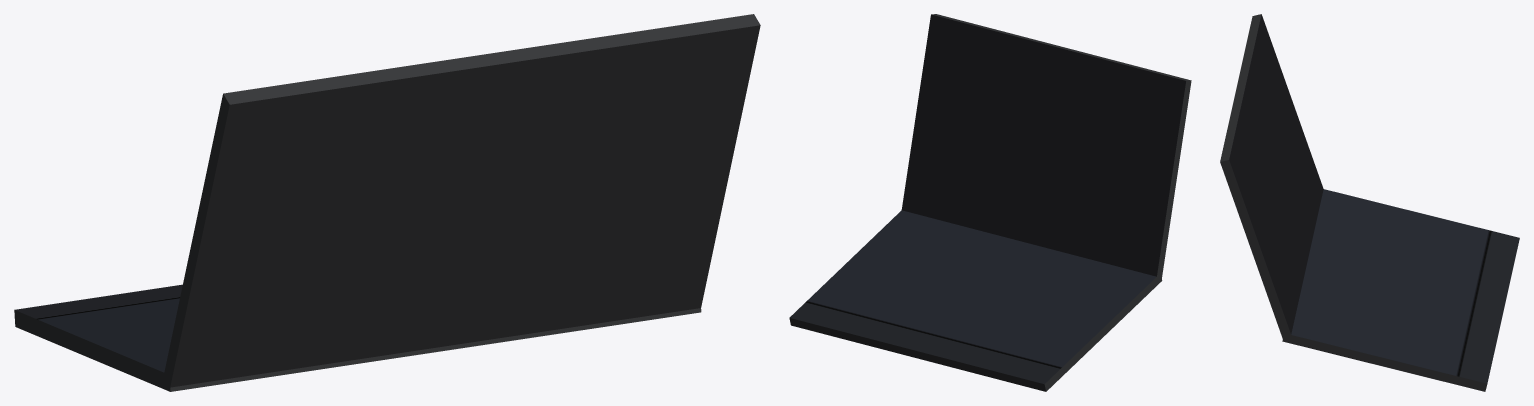
The model's file is Lapotop.fbx.
3 renders of one model, left to right at view 1: azimuth 30°, elevation 25°; view 2: azimuth 150°, elevation 25°; view 3: azimuth 270°, elevation 25°, orthographic. The views are drawn at different scales.
Visible parts, largest first — view 1: laptop; view 2: laptop; view 3: laptop.
Boxes of the visible parts, <box> form: laptop: <box>14,14,760,391</box>; laptop: <box>789,14,1191,391</box>; laptop: <box>1220,14,1519,391</box>.
Bounding box in the file's own units: 37.95 × 29.41 × 33.74.
